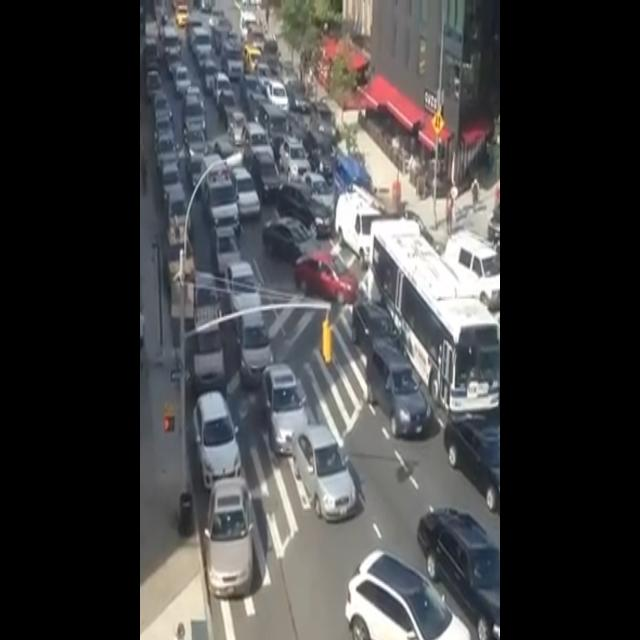Ambulance: (195, 147, 242, 236)
